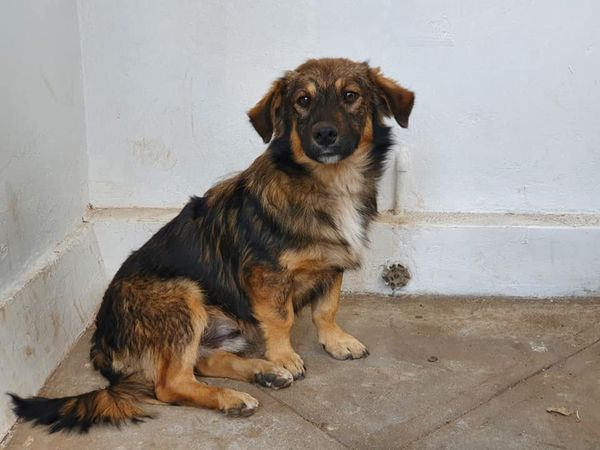dog: (1, 43, 426, 437)
